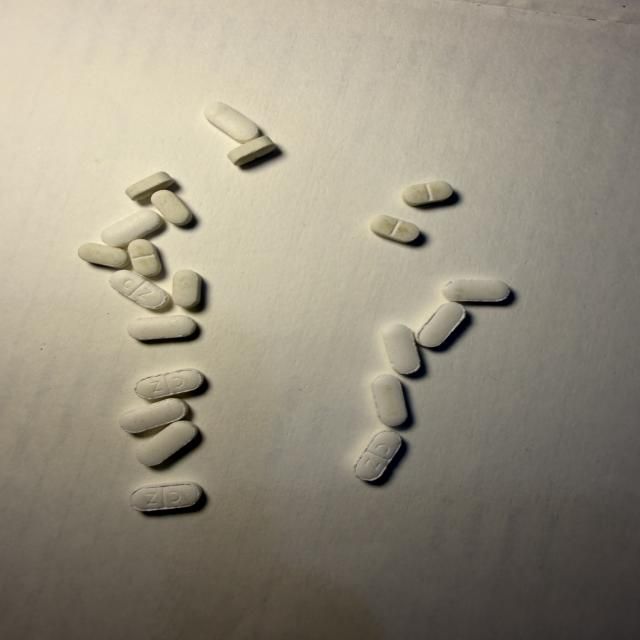pill: (137, 421, 198, 466), (120, 398, 188, 433), (355, 431, 401, 481), (110, 270, 168, 309), (417, 302, 466, 347), (205, 103, 259, 143), (101, 210, 161, 246), (130, 482, 202, 511), (136, 369, 204, 399), (383, 324, 420, 374), (372, 374, 407, 426), (128, 315, 197, 340), (442, 280, 510, 302), (227, 136, 276, 166), (151, 190, 192, 225), (370, 215, 419, 243), (126, 172, 174, 200), (402, 181, 452, 206), (128, 239, 161, 276), (78, 243, 128, 267), (173, 270, 201, 308)
